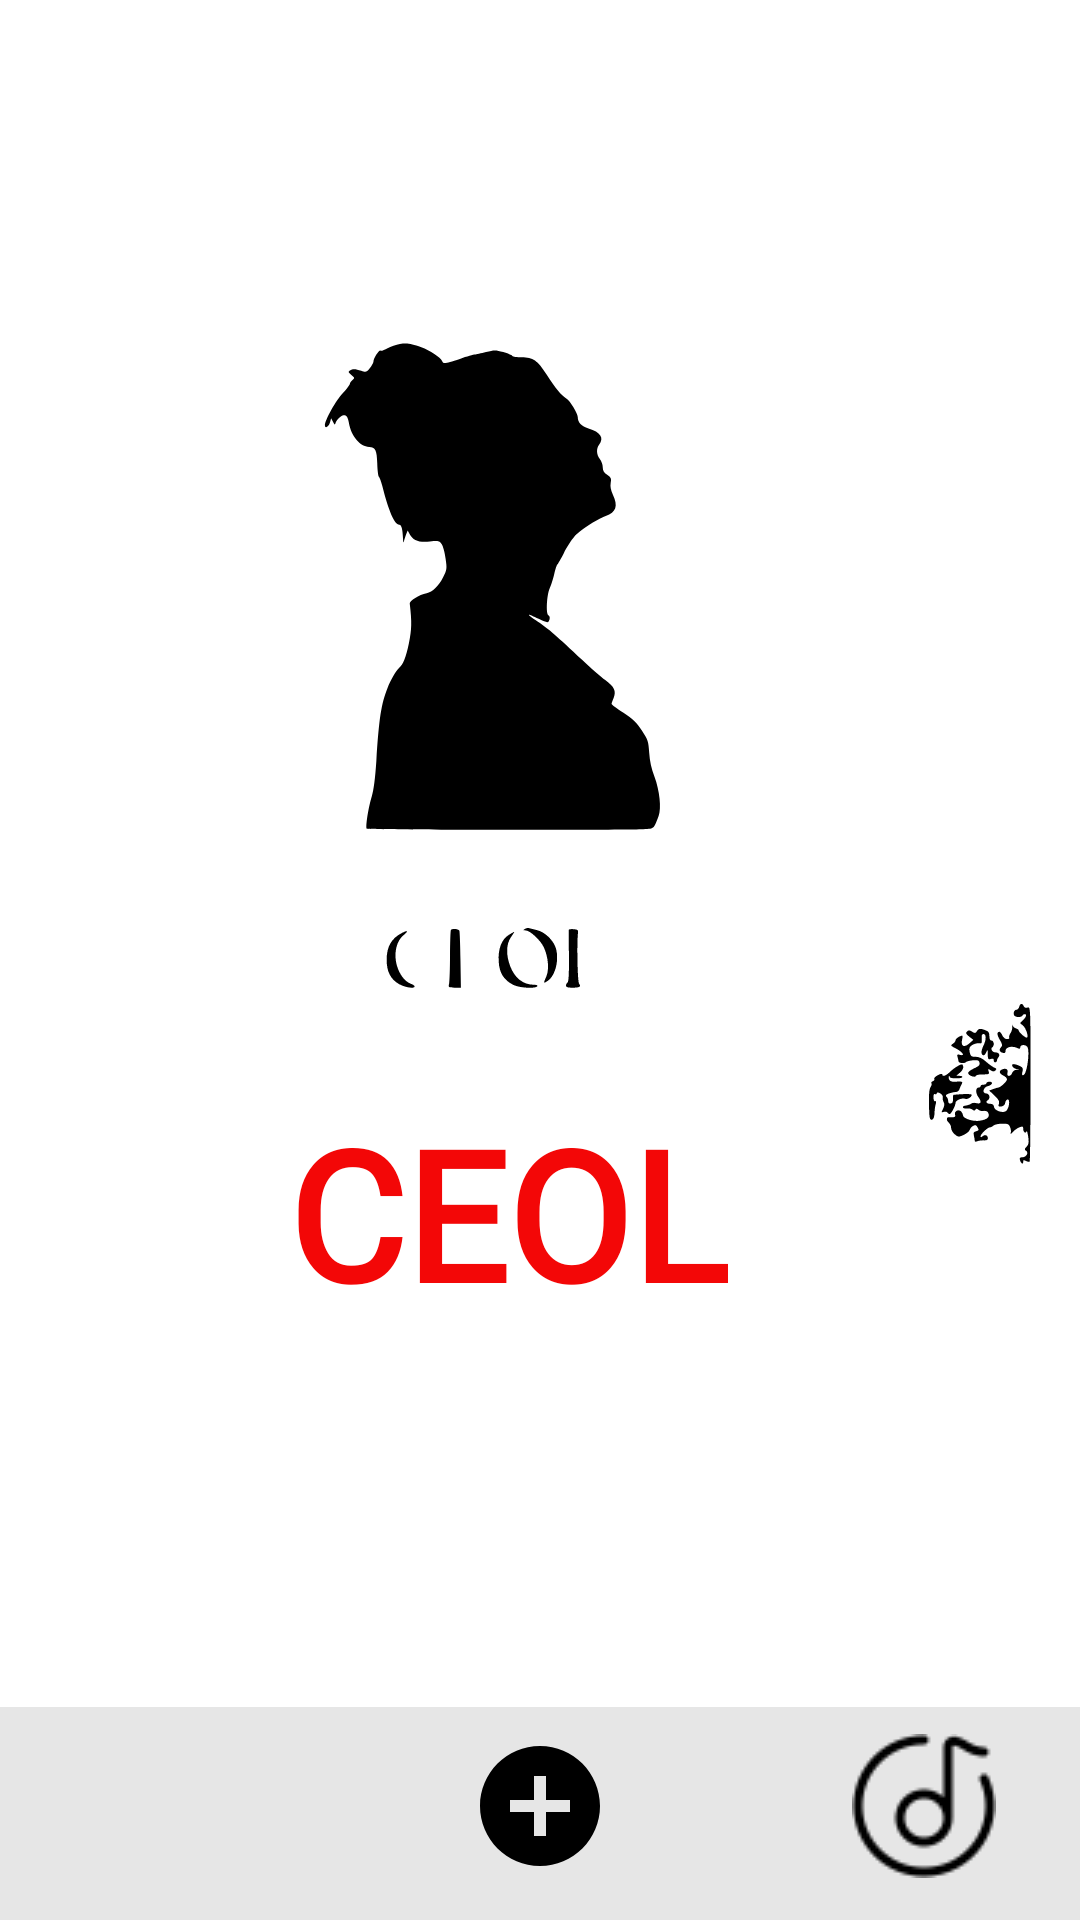

Icon click points for this 1080px x 1920px phone screenshot, format (x,y):
plus: (540,1806)
songs: (924,1806)
